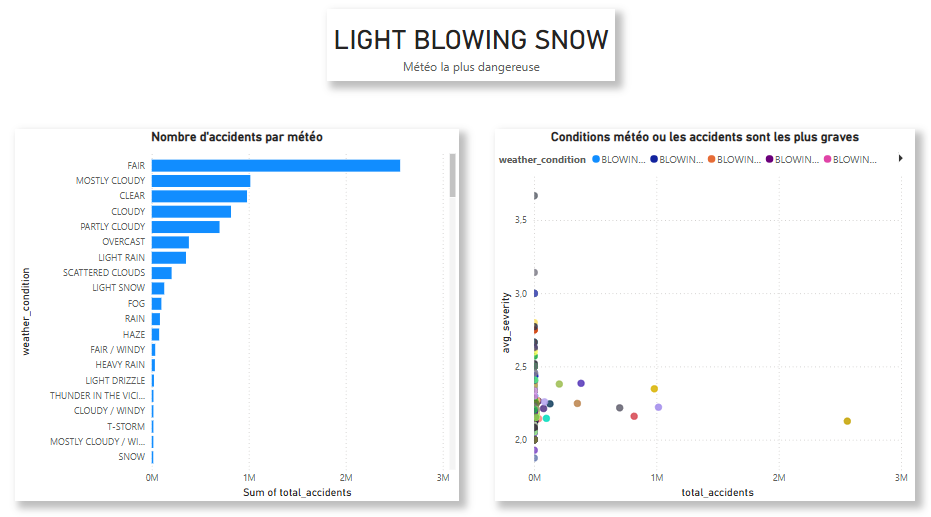

The page's visual inventory and layout, read from the dashboard file:
{"tool":"powerbi","page":{"name":"Page 3","canvas":[1280,720],"ordinal":2},"visuals":[{"type":"clusteredBarChart","title":"Nombre d''accidents par météo","fields":{"Category":["weather_analysis.weather_condition"],"Y":["Sum(weather_analysis.total_accidents)"]},"box":[48,192,592,496],"z":0},{"type":"scatterChart","title":"Conditions météo ou les accidents sont les plus graves","fields":{"X":["weather_analysis.total_accidents"],"Y":["weather_analysis.avg_severity"],"Series":["weather_analysis.weather_condition"]},"box":[688,192,560,496],"z":1000},{"type":"card","fields":{"Values":["weather_analysis.MeteoPlusGrave"]},"box":[464,32,384,96],"z":2000}]}

Visuals, with their boxes in screenshot pixels (x1, y1, x2, y2), scaled from the page's 1280x720 canvas onto the 931x517 screenshot:
"Nombre d''accidents par météo" clusteredBarChart: (35, 138, 466, 494)
"Conditions météo ou les accidents sont les plus graves" scatterChart: (500, 138, 908, 494)
card - weather_analysis.MeteoPlusGrave: (337, 23, 617, 92)
